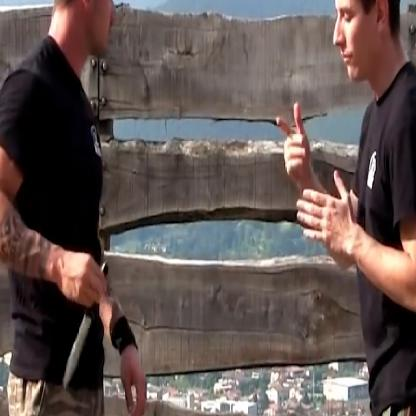knife: (57, 255, 109, 396)
